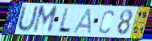8: (116, 9, 134, 37)
A: (72, 7, 93, 35)
C: (98, 9, 115, 35)
L: (57, 7, 72, 34)
M: (31, 5, 59, 35)
U: (16, 4, 40, 34)
